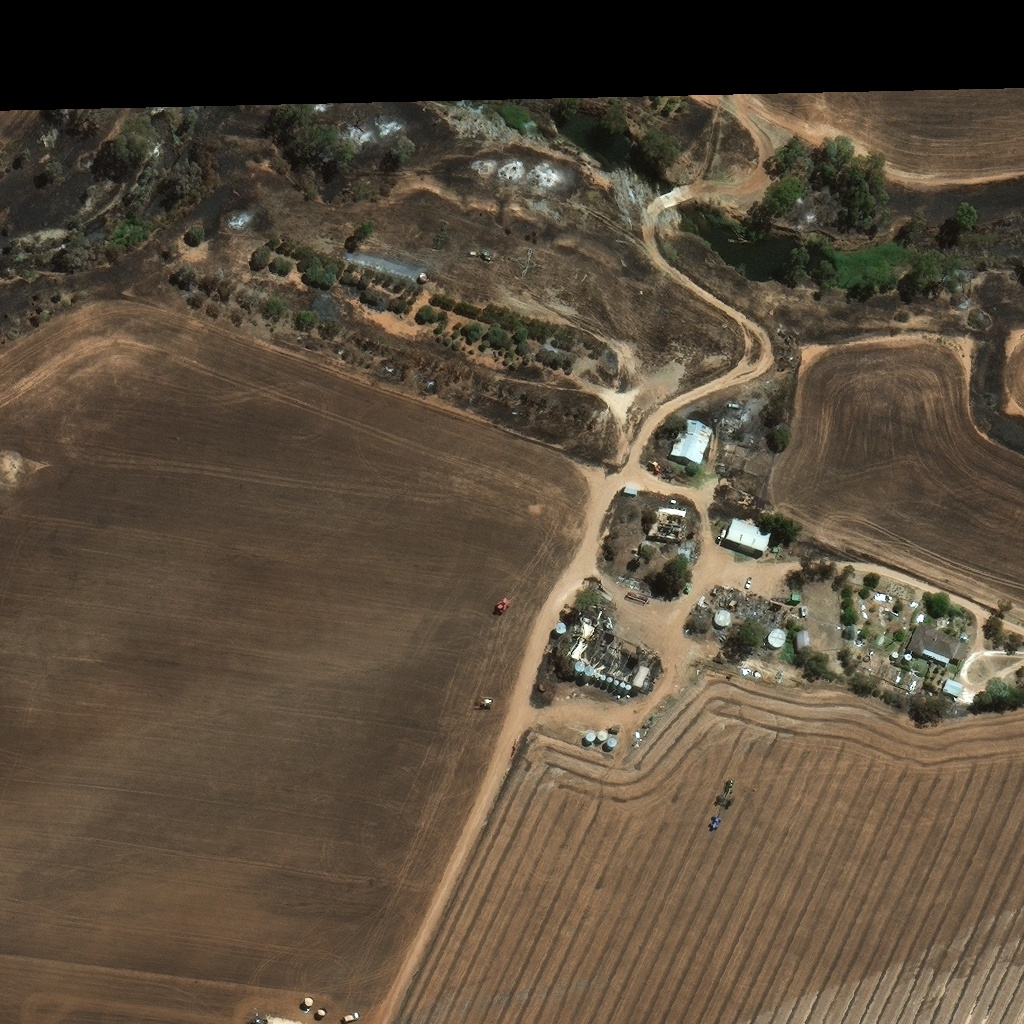0 no-damage: (905, 622, 961, 666), (725, 522, 771, 556), (942, 679, 964, 698), (573, 729, 585, 741), (562, 726, 574, 737), (596, 731, 608, 741), (890, 650, 900, 660), (904, 653, 913, 663)
1 minor-damage: (768, 630, 786, 648), (796, 636, 810, 651), (572, 665, 585, 677), (583, 670, 594, 681), (624, 687, 634, 695), (606, 678, 614, 686), (594, 673, 601, 680), (612, 682, 620, 688), (600, 676, 606, 683), (619, 684, 625, 691)
2 major-damage: (713, 610, 731, 627), (790, 596, 801, 604), (800, 607, 809, 615)
3 destroyed: (566, 624, 657, 692), (715, 584, 791, 629), (581, 588, 620, 631), (648, 505, 689, 544)
4 un-classified: (668, 420, 712, 466), (726, 422, 741, 435), (623, 485, 639, 495), (727, 403, 741, 409)
